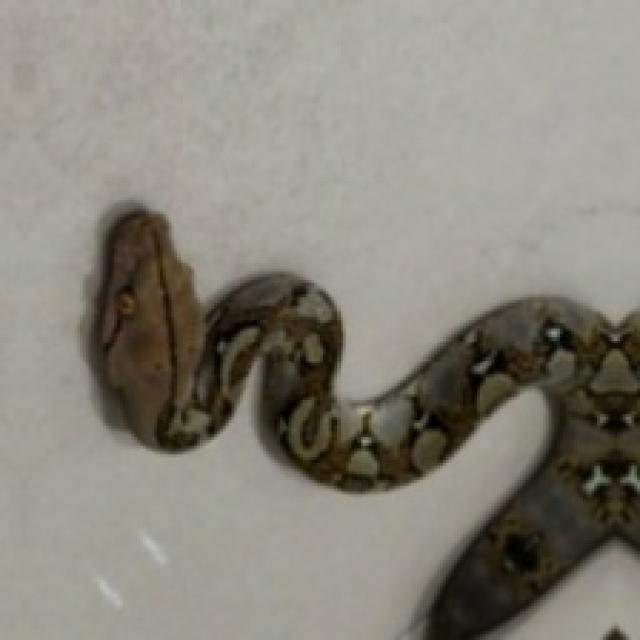reticulated python: (97, 211, 637, 637)
